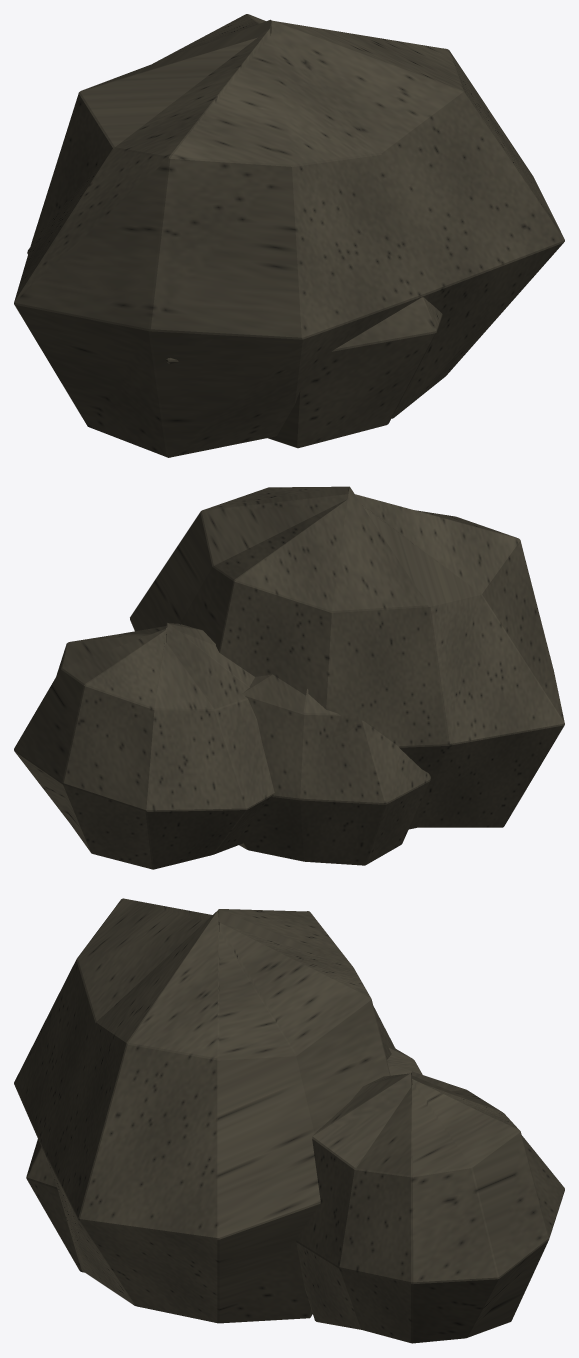
The model's file is PROP-76445B97A926_lod1.glb.
The picture shows the model from 3 angles, top to bottom: view 1: azimuth 30°, elevation 25°; view 2: azimuth 150°, elevation 25°; view 3: azimuth 270°, elevation 25°; orthographic projection. The views are drawn at different scales.
Parts seen in each view (by area): view 1: rock.006; view 2: rock.006; view 3: rock.006.
Part boxes in pixels (bbox=[...]): rock.006: bbox=[14, 14, 564, 457]; rock.006: bbox=[14, 486, 564, 869]; rock.006: bbox=[14, 898, 564, 1343].
Size of the model in its own units: 1.35 by 0.8989 by 1.31.
1 material, 1 textured.
